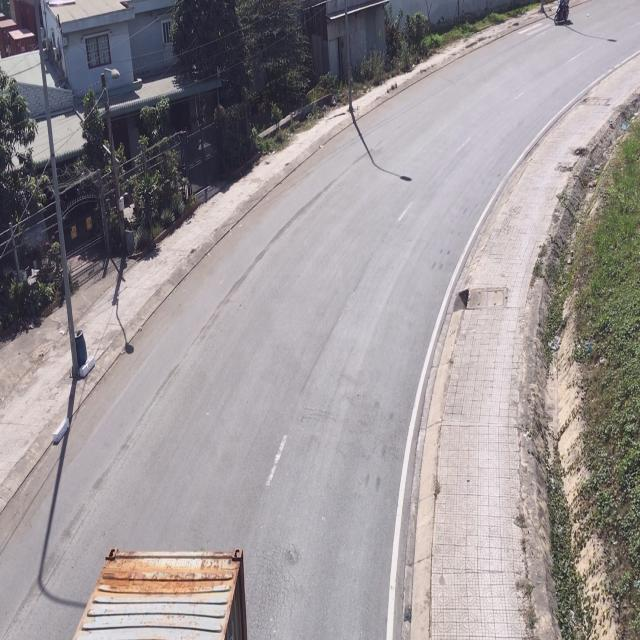motorbike: (552, 0, 572, 29)
truck: (72, 543, 248, 638)
